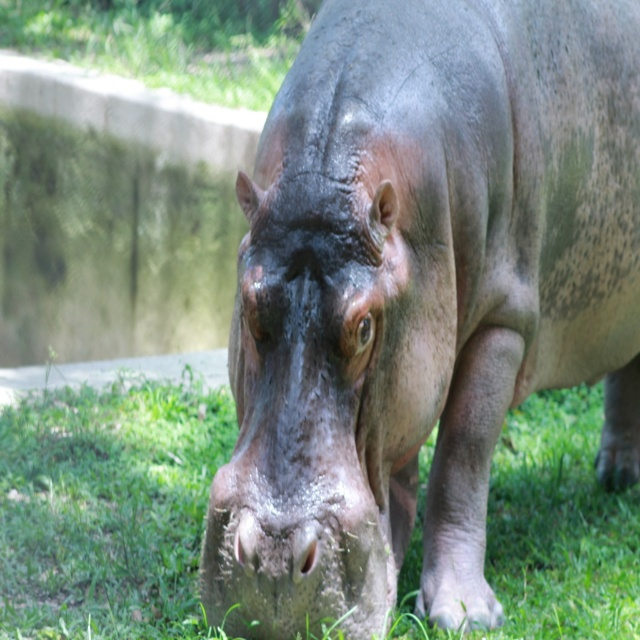Hippopotamus: (194, 0, 640, 640)
